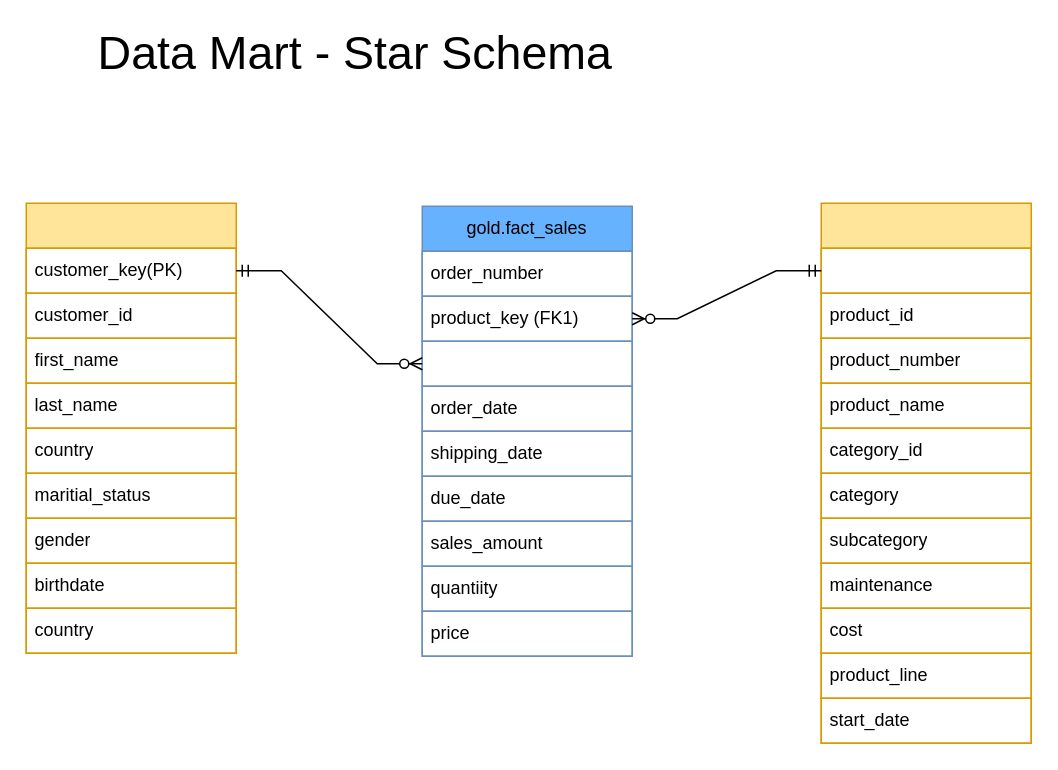
This 1058x770 diagram has some shape labels left out. Each missing label, with the box of its shape:
customer_key: (421, 340, 632, 386)
gold.dim_customers: (25, 202, 236, 653)
gold.dim_products: (820, 202, 1031, 743)
product_key(PK): (820, 247, 1031, 293)
